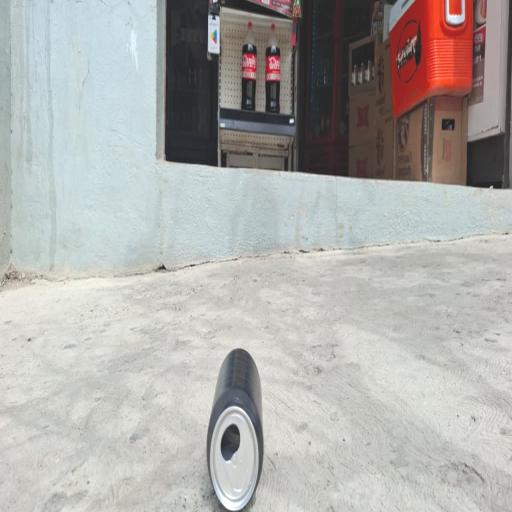LATA: (184, 348, 274, 512)
